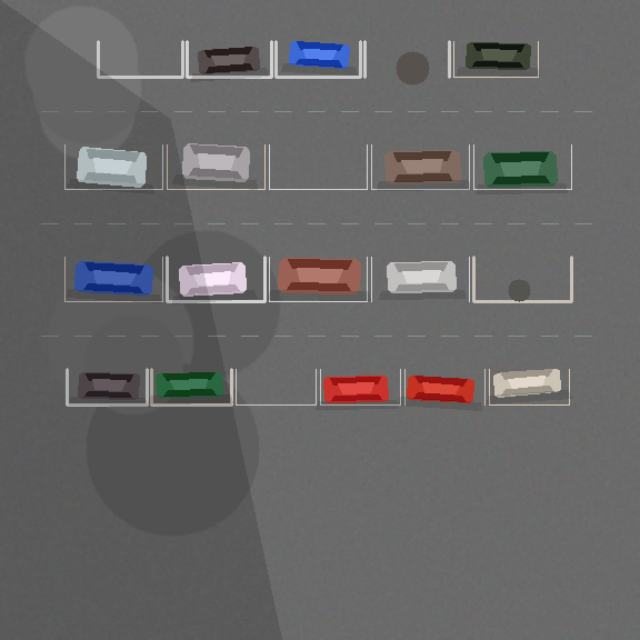space-empty: (269, 144, 367, 189), (473, 257, 571, 301), (364, 41, 449, 77), (98, 41, 182, 77), (236, 369, 316, 404)
space-occupied: (64, 144, 162, 189), (371, 144, 469, 189), (473, 144, 571, 189), (167, 144, 264, 189), (64, 257, 162, 301), (269, 257, 367, 301), (371, 257, 469, 301), (167, 257, 264, 301), (453, 41, 538, 77), (187, 41, 271, 77), (276, 41, 360, 77), (67, 369, 147, 404), (151, 369, 231, 404), (320, 369, 400, 404), (404, 369, 484, 404), (489, 369, 569, 404)
